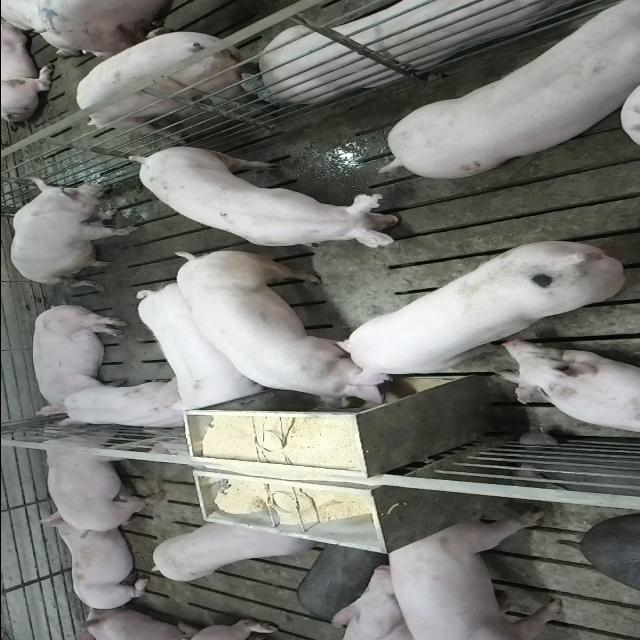Feeding: (332, 238, 626, 390), (172, 253, 396, 417)
Lateral_lying: (28, 302, 128, 418)
Sitting: (7, 176, 137, 286)
Standing: (382, 6, 640, 182), (130, 143, 417, 246), (383, 512, 564, 638), (76, 22, 272, 132), (130, 282, 264, 412), (31, 421, 168, 534), (144, 520, 316, 586)
Sternal_lying: (494, 344, 640, 436), (36, 518, 156, 614), (46, 378, 190, 432)
